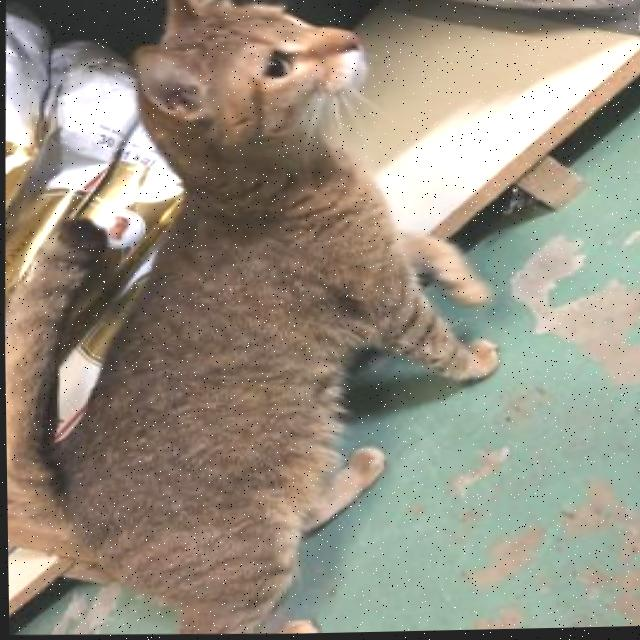Abyssinian: (0, 0, 512, 640)
